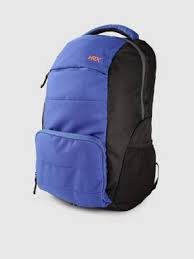backpack: (32, 23, 159, 211)
